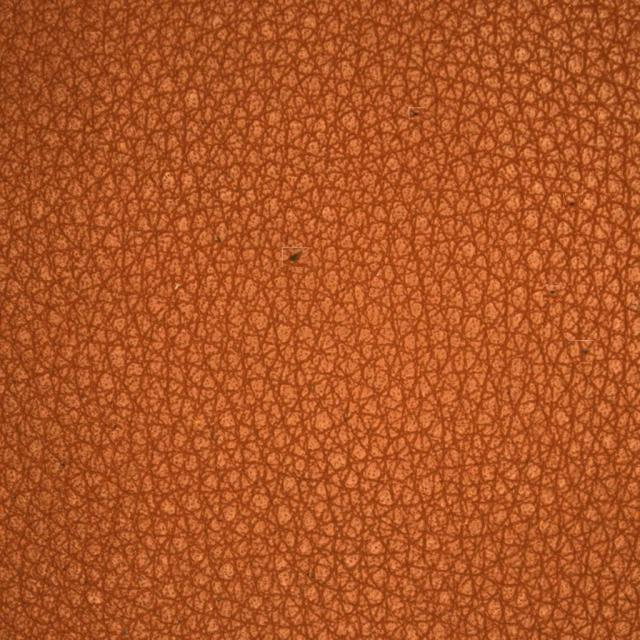Hole: (227, 156, 352, 356)
